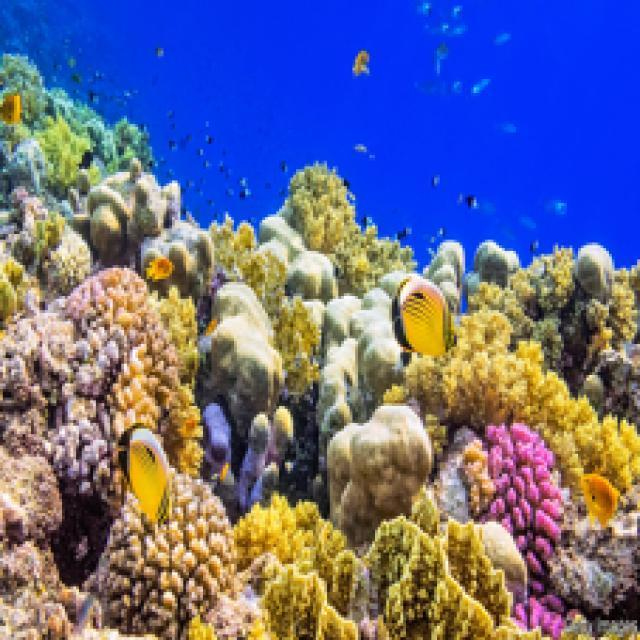Healthy: (102, 484, 229, 627), (493, 423, 567, 640), (231, 502, 352, 633), (372, 494, 473, 638), (406, 356, 582, 428), (156, 296, 212, 478), (98, 273, 161, 430), (203, 410, 282, 488), (455, 313, 533, 381), (293, 171, 353, 245), (567, 424, 640, 482), (42, 120, 88, 186), (1, 269, 24, 324), (32, 216, 62, 257)
